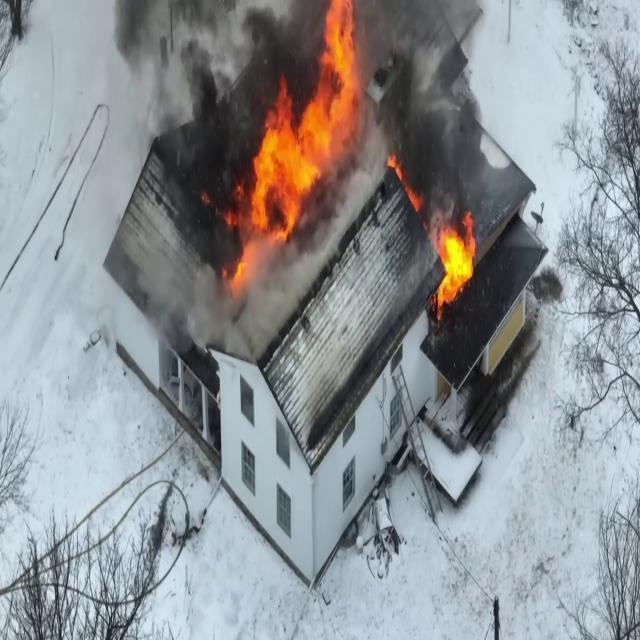Fire: (238, 2, 370, 268), (430, 208, 480, 318)
Smoke: (358, 1, 498, 214), (105, 0, 278, 145)
